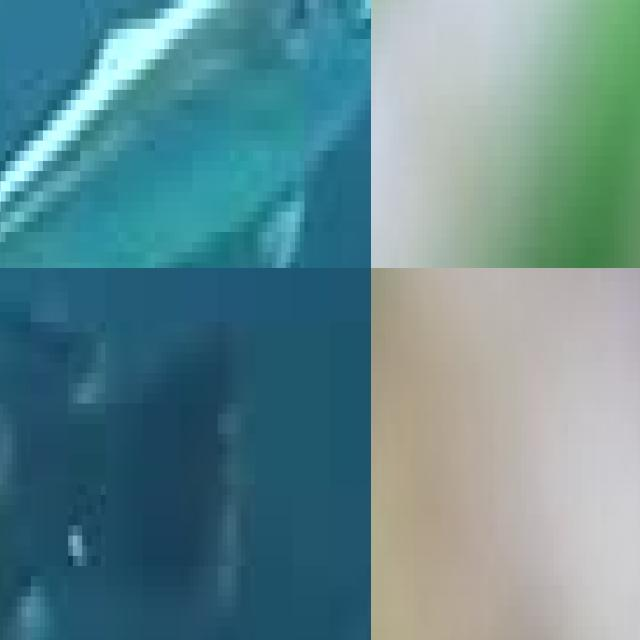fish: (0, 268, 371, 640), (0, 0, 371, 268)
